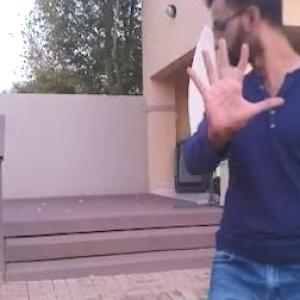follow_hand: (182, 33, 286, 137)
